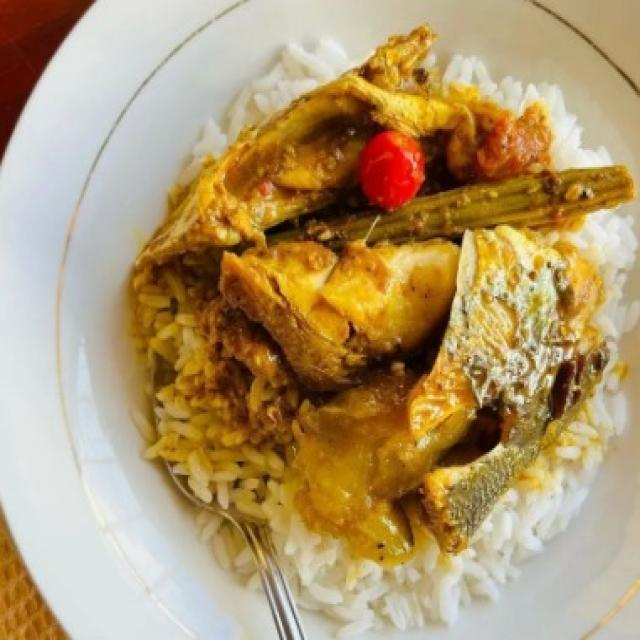FISH CURRY: (130, 15, 638, 621)
